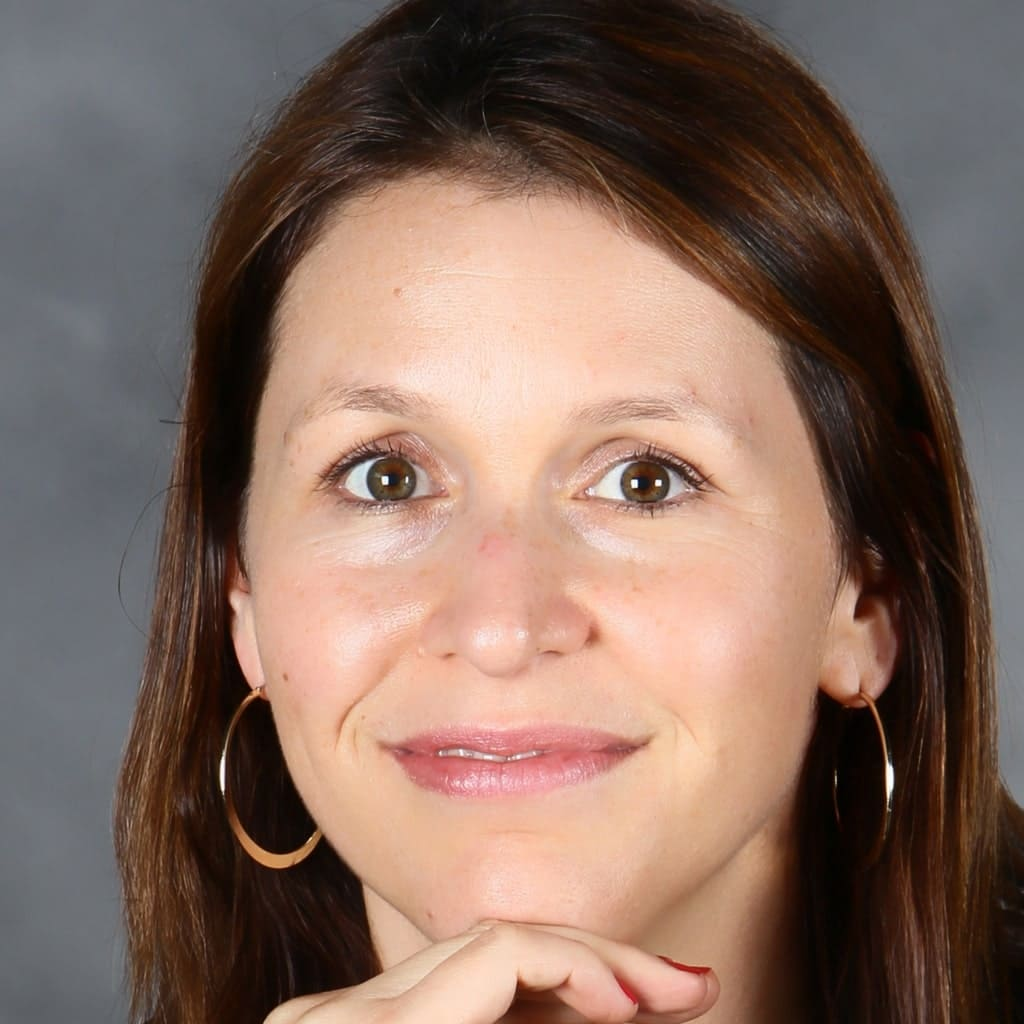without_mask: (242, 230, 819, 920)
